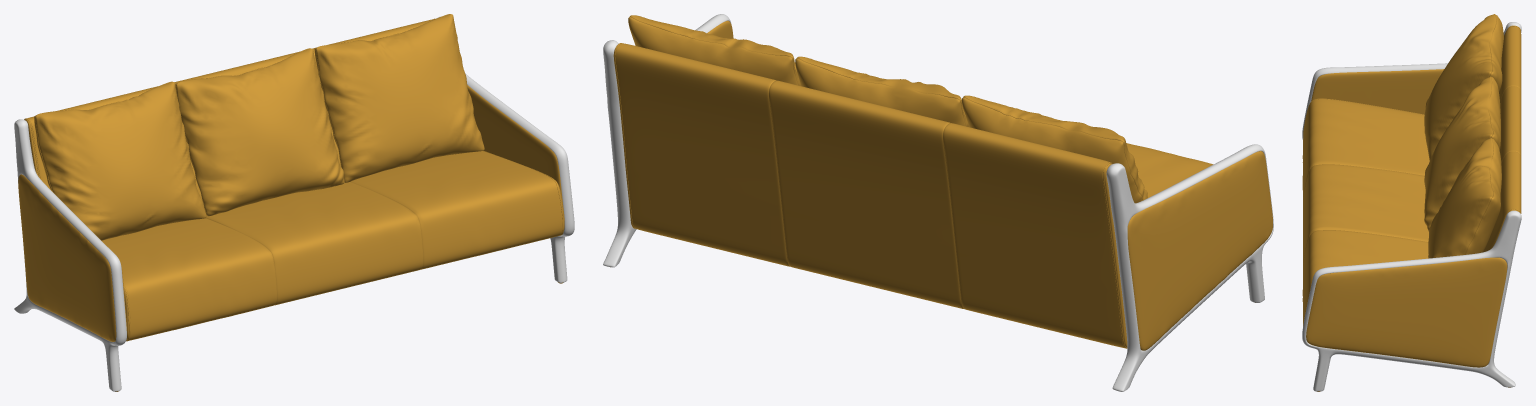
3 renders of one model, left to right at view 1: azimuth 30°, elevation 25°; view 2: azimuth 150°, elevation 25°; view 3: azimuth 270°, elevation 25°, orthographic. The views are drawn at different scales.
Parts seen in each view (by area): view 1: Cube.002, Cube.003, Cube.004, Cube.001, Plane.001, Plane.003; view 2: Cube.002, Plane.001, Plane.003, Cube.001, Cube.004, Cube.003; view 3: Cube.002, Plane.001, Plane.003, Cube.004, Cube.003, Cube.001.
Boxes of the visible parts, x1,y1,x2,y2 form: Cube.002: [24, 18, 564, 341]; Cube.003: [175, 48, 344, 216]; Cube.004: [314, 14, 484, 182]; Cube.001: [34, 81, 206, 240]; Plane.001: [18, 85, 564, 341]; Plane.003: [14, 16, 574, 391]; Cube.002: [613, 43, 1213, 348]; Plane.001: [630, 20, 1272, 350]; Plane.003: [603, 14, 1273, 391]; Cube.001: [961, 95, 1147, 203]; Cube.004: [628, 15, 800, 85]; Cube.003: [795, 56, 969, 126]; Cube.002: [1302, 25, 1521, 325]; Plane.001: [1306, 69, 1507, 367]; Plane.003: [1302, 22, 1521, 391]; Cube.004: [1428, 138, 1501, 258]; Cube.003: [1424, 76, 1500, 231]; Cube.001: [1424, 14, 1503, 160].
Bounding box in the file's own units: 4.61 × 1.95 × 2.07.
Materials: 3 (2 with a texture image).
